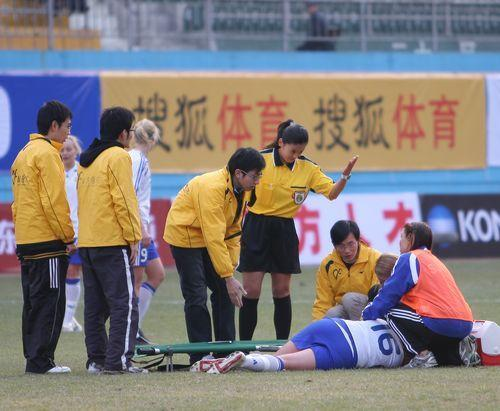Fall-Detected: (213, 305, 439, 374)
